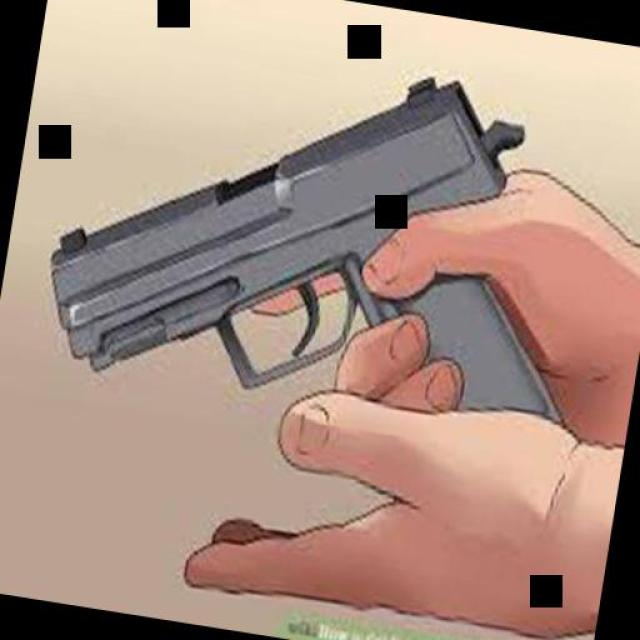gun: (21, 0, 634, 471)
